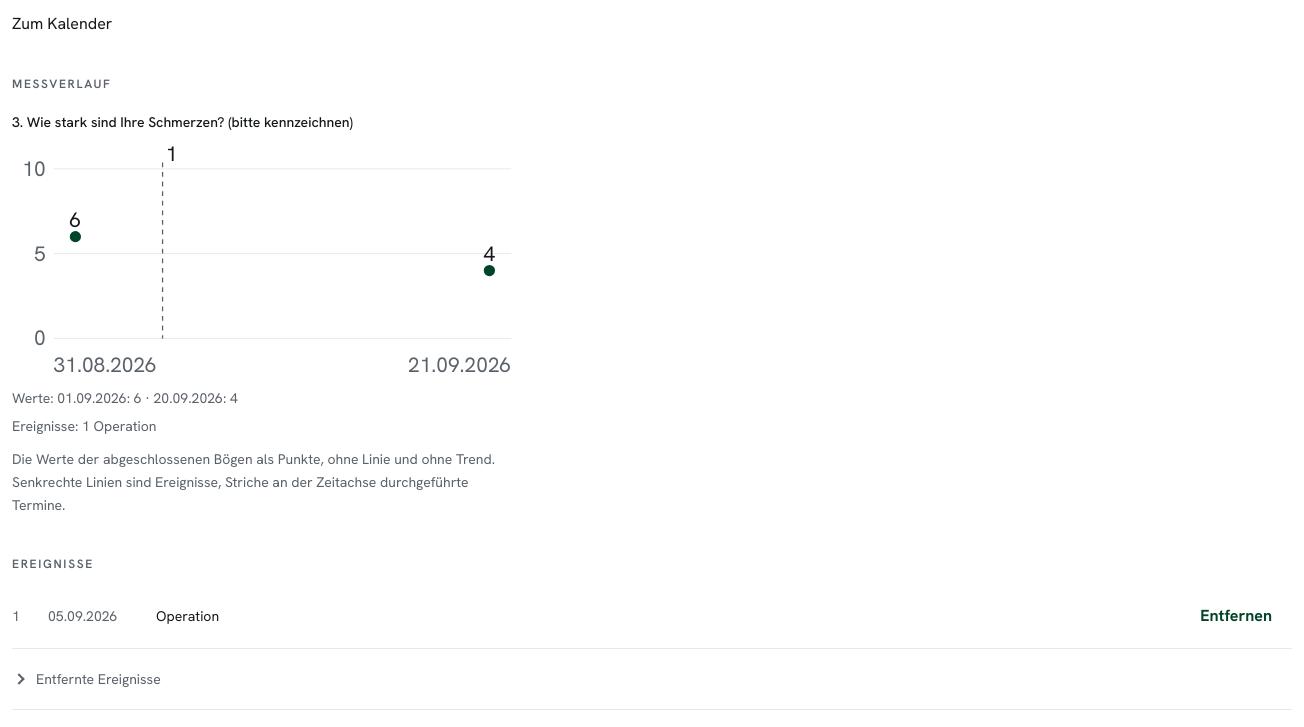
Test: Messverlauf › zeigt einen gescheiterten Versuch im offenen Kasten
Click the button "Entfernen".
click(1236, 616)  # box [1180,592,1292,640]
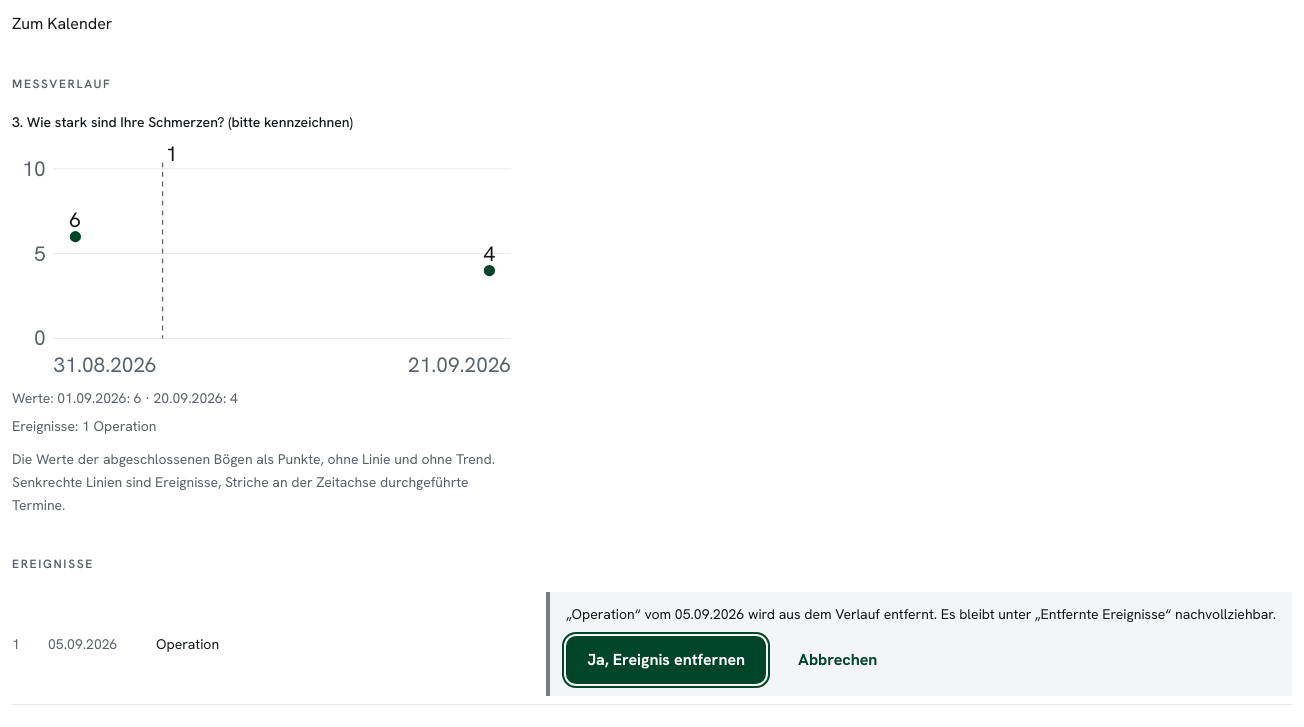
Click the button "Ja, Ereignis entfernen".
click(666, 660)  # box [566,636,766,684]
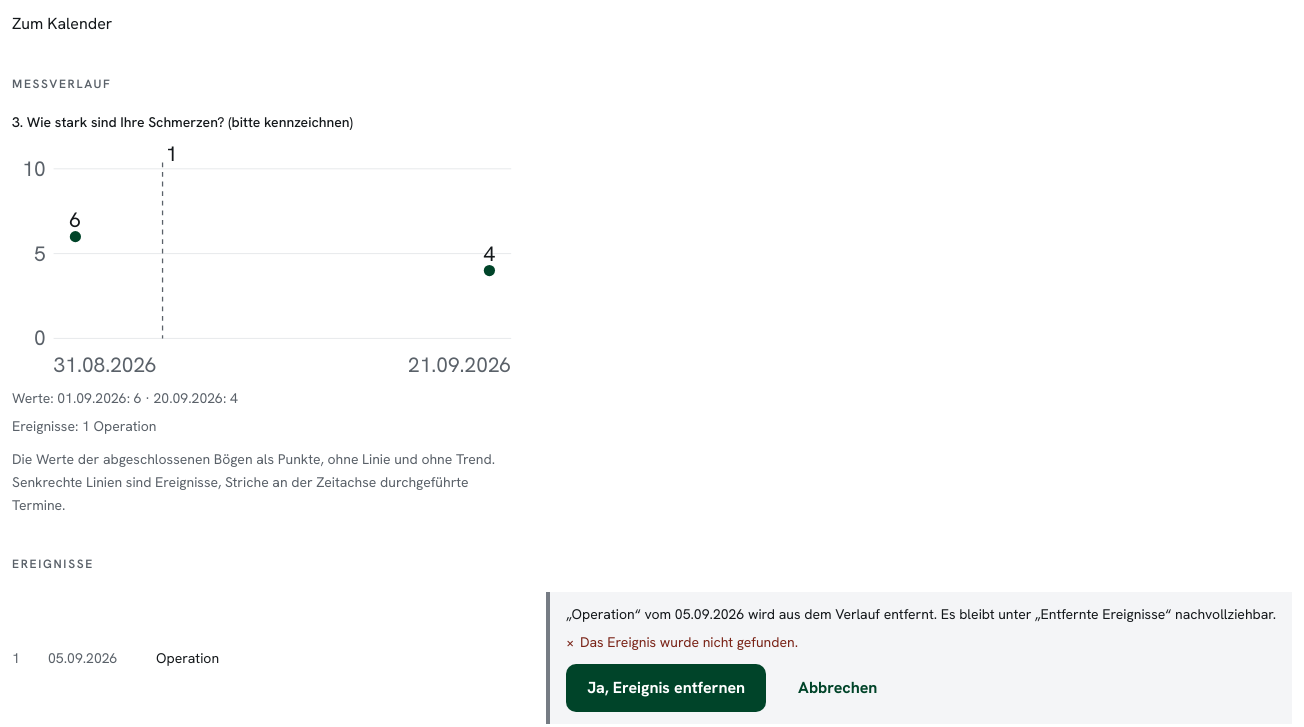
Now the message shows "Das Ereignis wurde nicht gefunden.", box [580,633,798,651]
